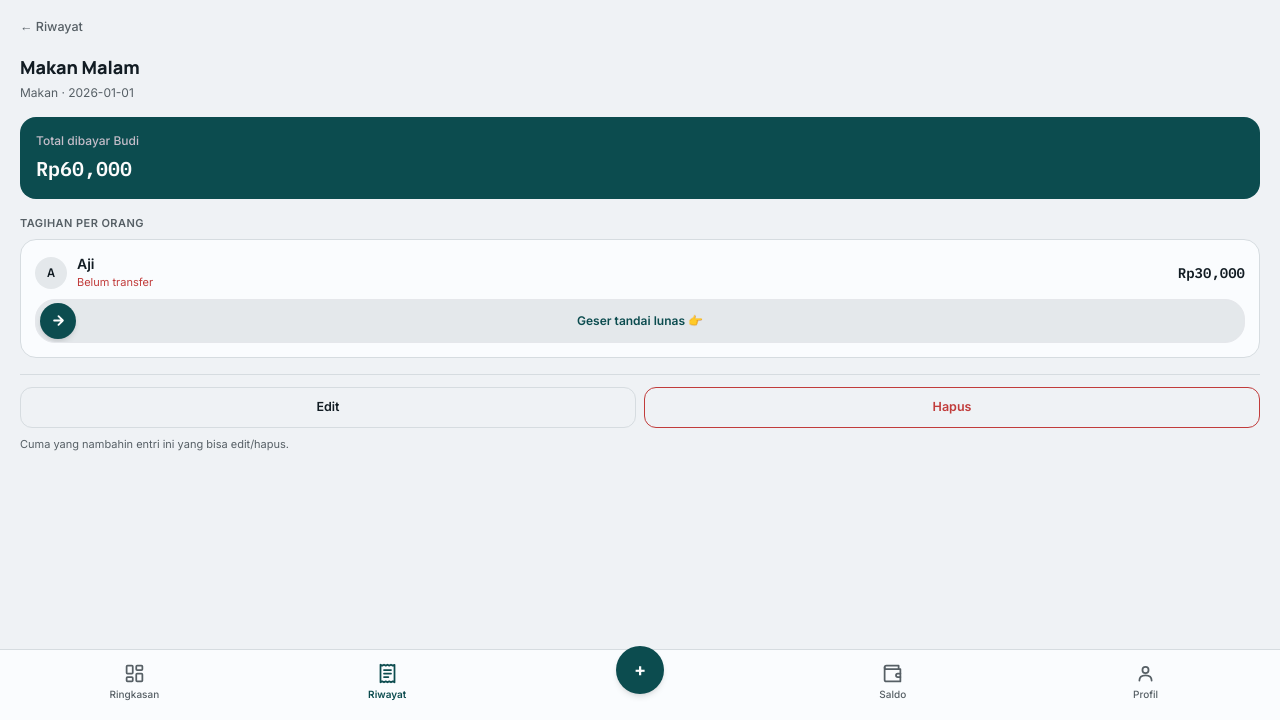
Test: SubTripDetailScreen — edit/delete authorization › opens the sheet in edit mode, pre-filled, when Edit is clicked
Click the button "Edit".
click(328, 407)  # box left=20, top=387, right=636, bottom=428
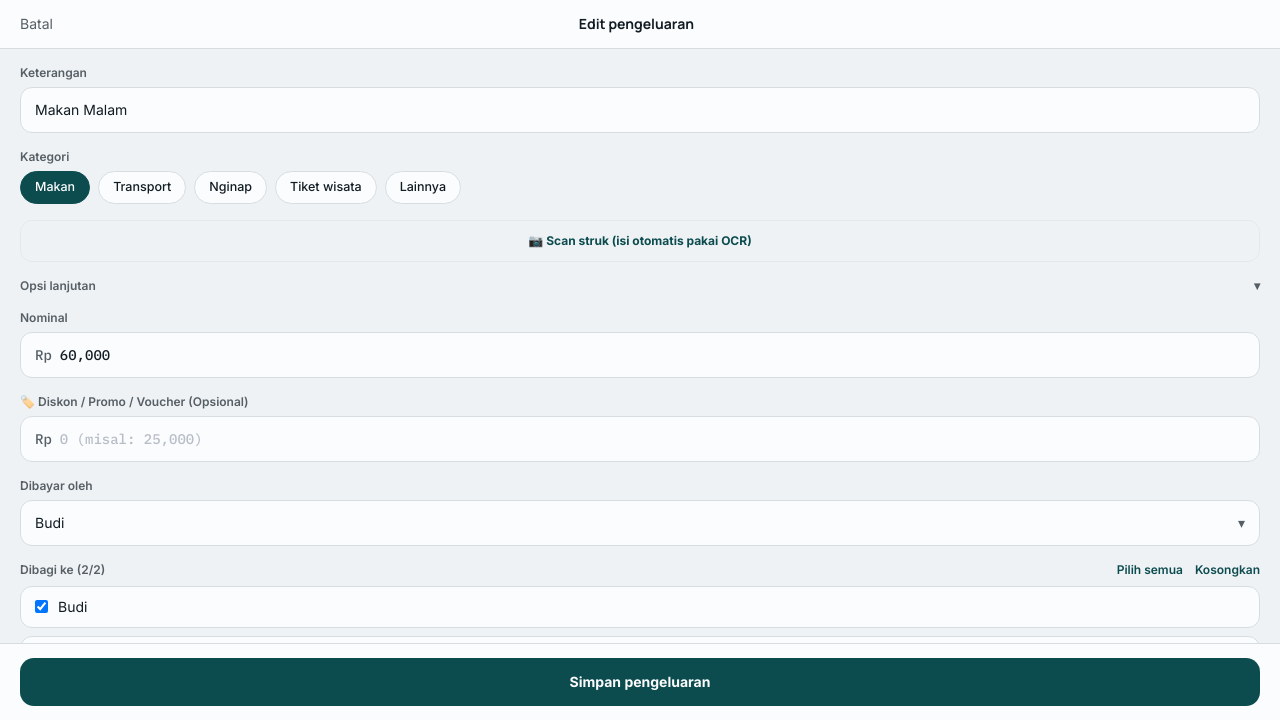
Now the text "Edit pengeluaran" is shown, box left=579, top=14, right=694, bottom=34
Now the field showing "Makan Malam" is shown, box left=20, top=87, right=1260, bottom=133
